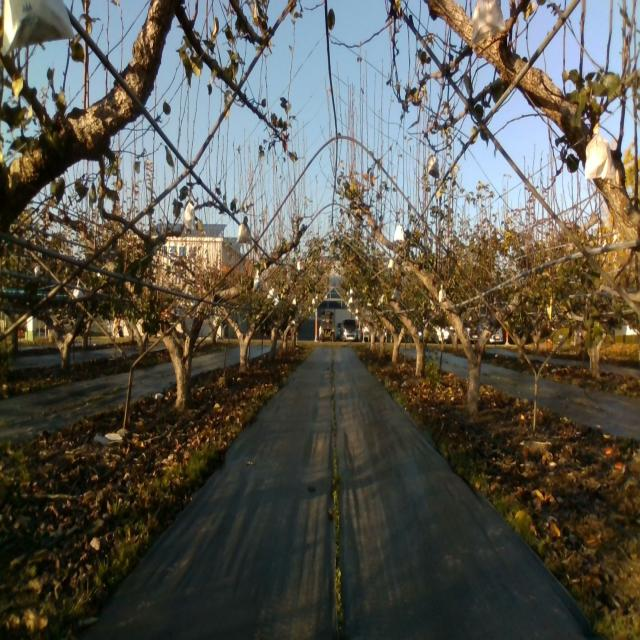pearbags: (585, 121, 616, 182), (470, 0, 507, 48), (183, 202, 196, 233), (236, 222, 252, 244), (426, 154, 440, 178)
